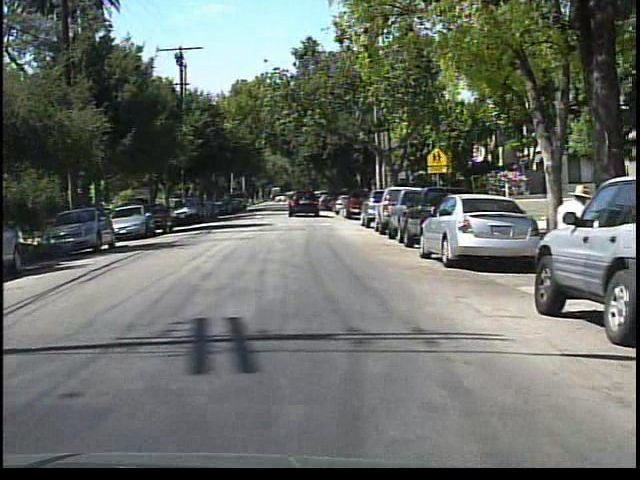person: (551, 176, 593, 306)
